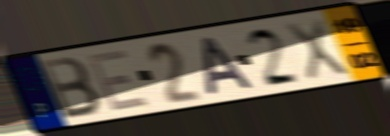2: (147, 39, 206, 105), (245, 26, 302, 87)
A: (200, 34, 258, 98)
B: (36, 54, 104, 122)
E: (84, 46, 153, 114)
X: (281, 16, 352, 83)
